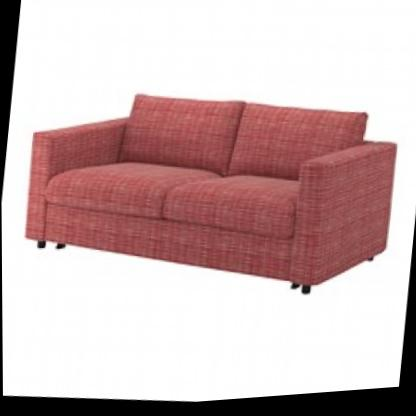Sofa: (7, 30, 406, 334)
